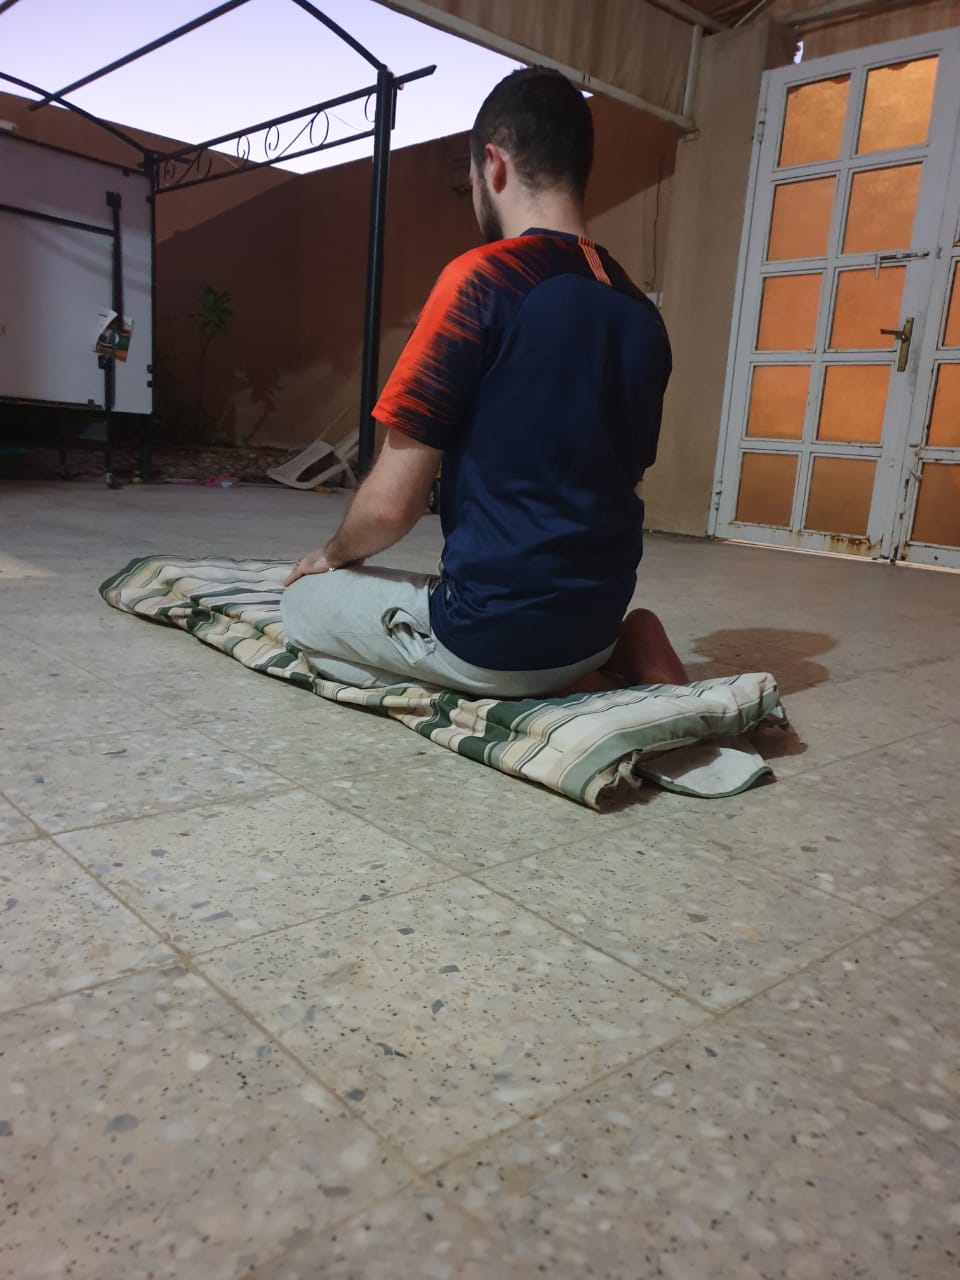sitting: (254, 58, 731, 698)
